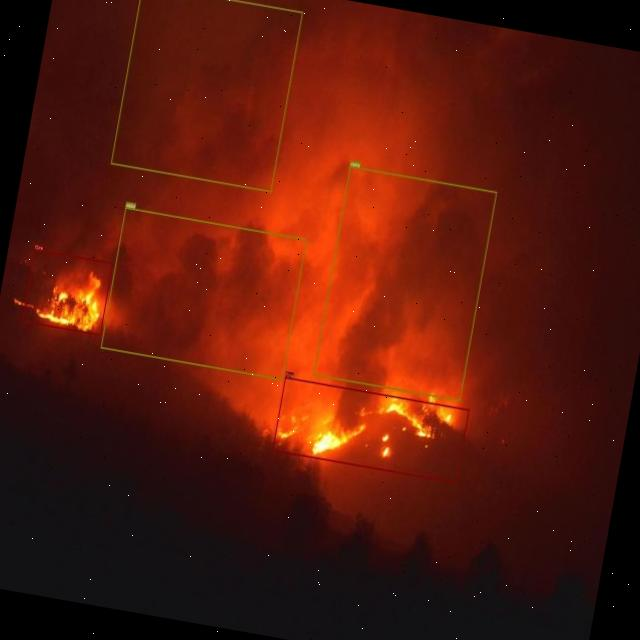fire: (272, 377, 468, 483), (21, 248, 113, 335)
smoke: (313, 164, 497, 400), (110, 0, 302, 191), (100, 206, 306, 380)
